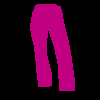pantaloni: (30, 4, 75, 90)
